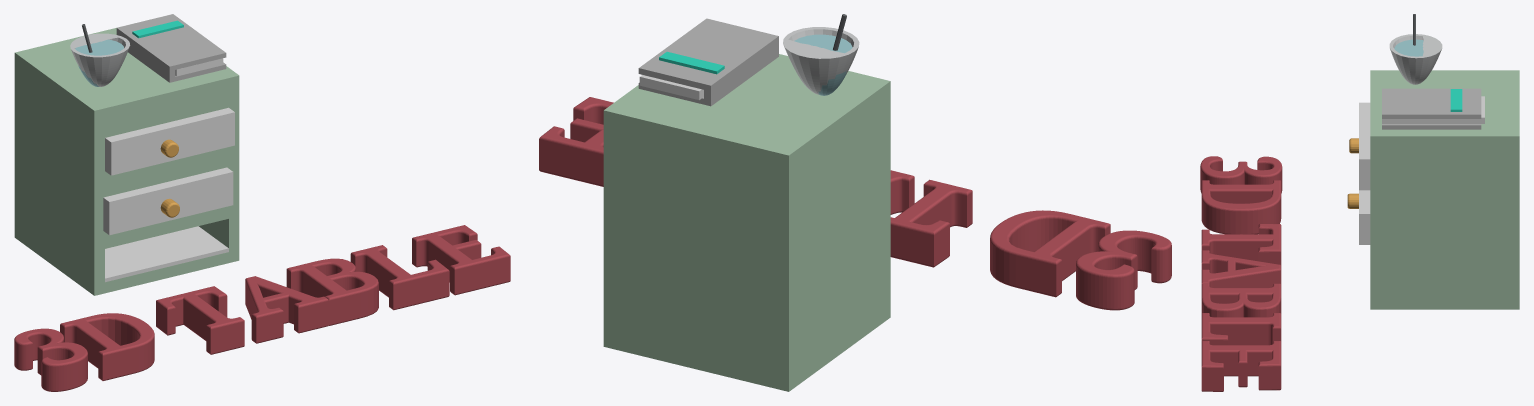
File: SIDE TABLE MODEL (1).glb
The picture shows the model from 3 angles, left to right: view 1: azimuth 30°, elevation 25°; view 2: azimuth 150°, elevation 25°; view 3: azimuth 270°, elevation 25°; orthographic projection. The views are drawn at different scales.
Parts seen in each view (by area): view 1: Mesh_Mesh_head_geo.001_lambert2SG.001; view 2: Mesh_Mesh_head_geo.001_lambert2SG.001; view 3: Mesh_Mesh_head_geo.001_lambert2SG.001.
Boxes of the visible parts, left/top/right/bottom form: Mesh_Mesh_head_geo.001_lambert2SG.001: left=14, top=14, right=510, bottom=391; Mesh_Mesh_head_geo.001_lambert2SG.001: left=539, top=14, right=1171, bottom=391; Mesh_Mesh_head_geo.001_lambert2SG.001: left=1200, top=14, right=1519, bottom=391.
Size of the model in its own units: 131 by 67.89 by 83.49.
